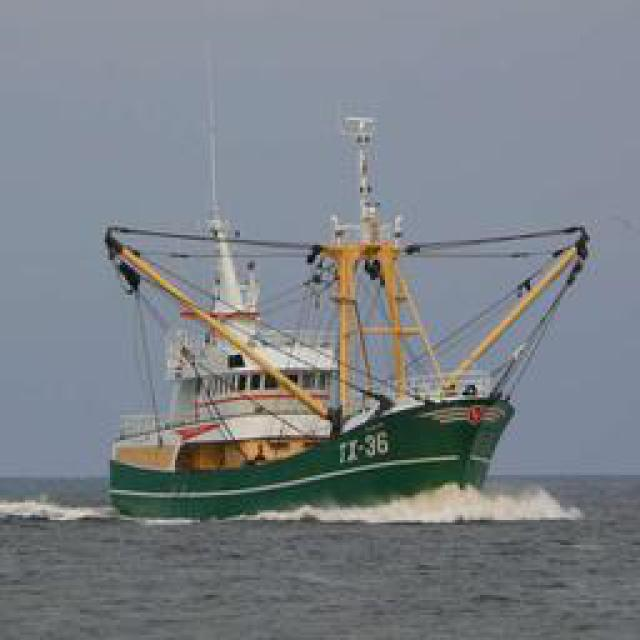Ship: (101, 88, 564, 526)
